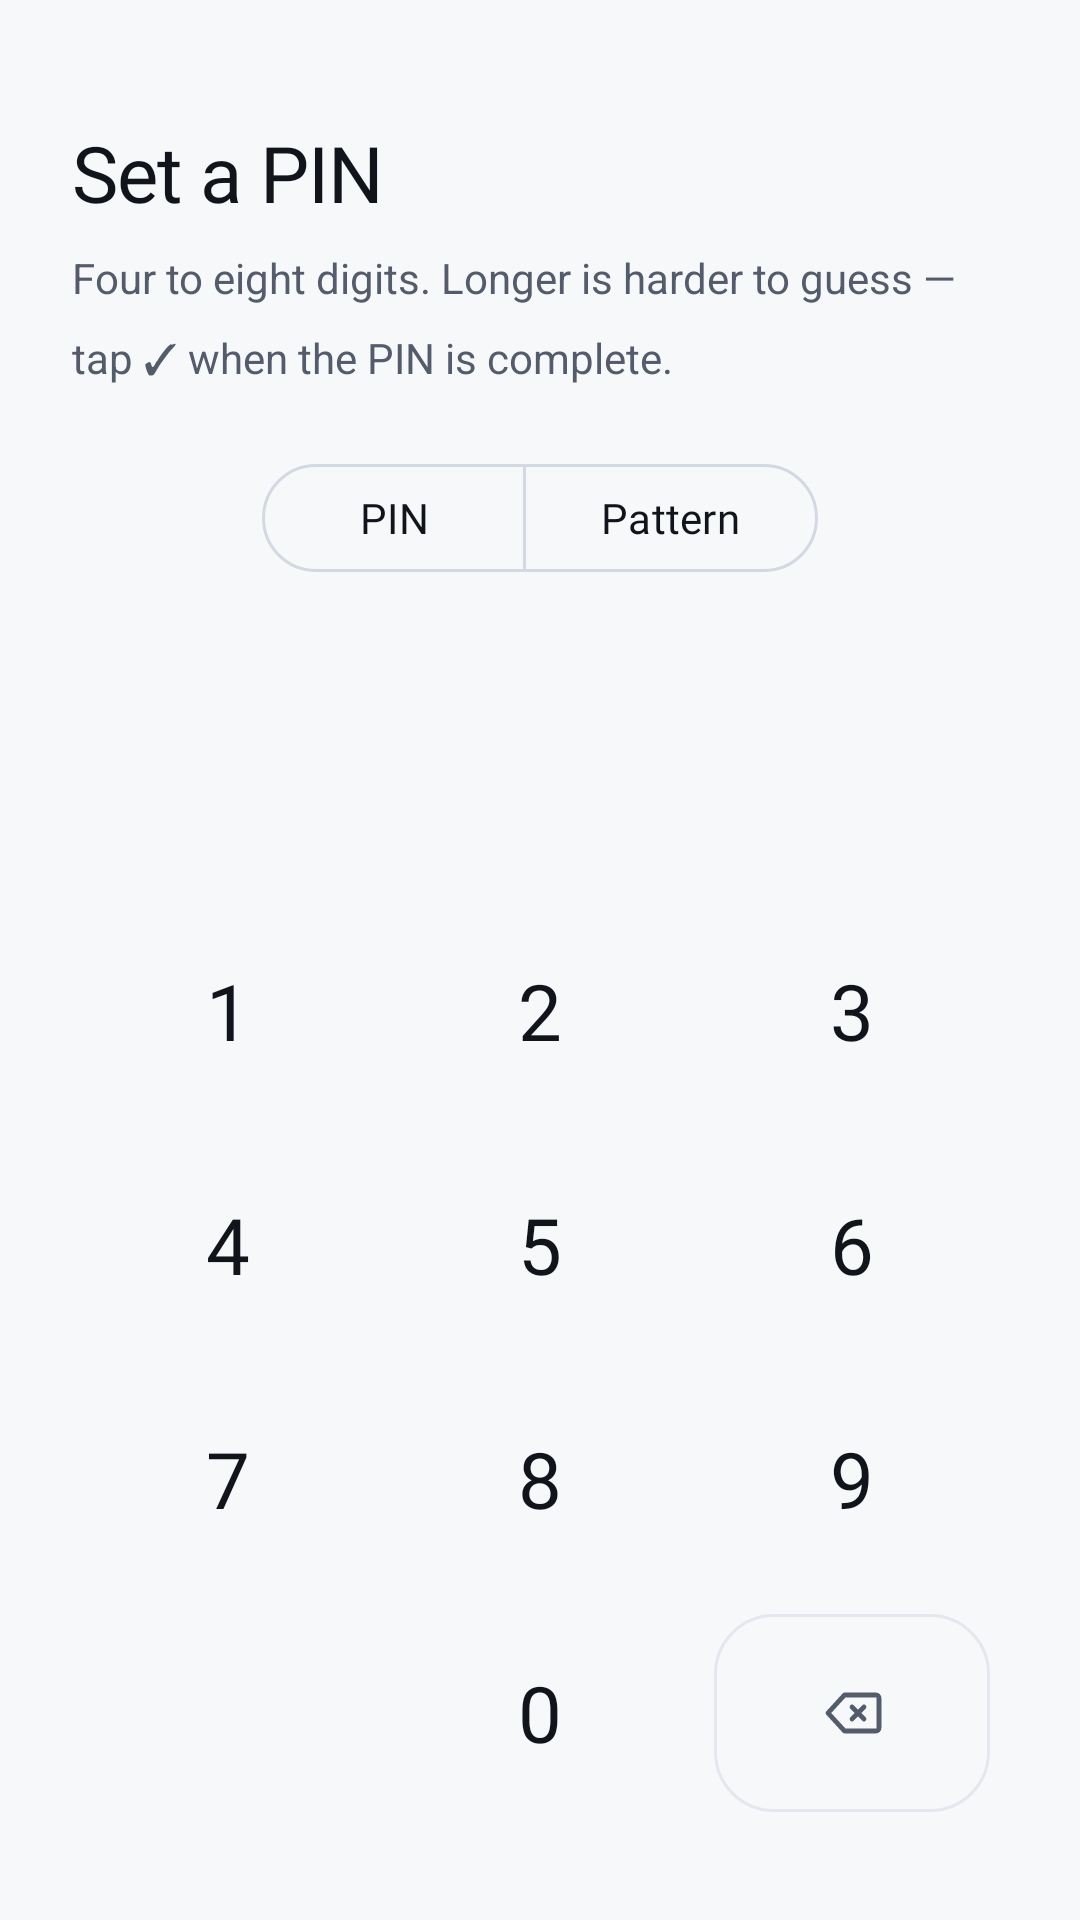

Named icons in this screenshot (1080x1920) and their centers, (x,y):
Delete: (853,1713)
